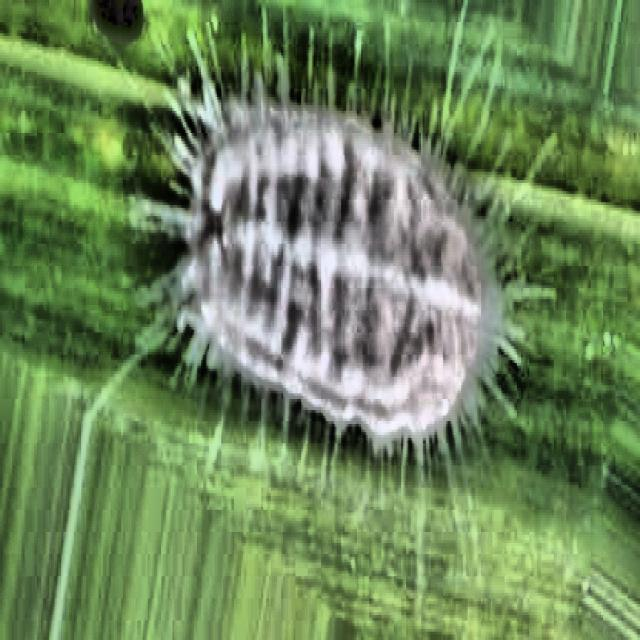Mealy-bug: (104, 7, 556, 506)
